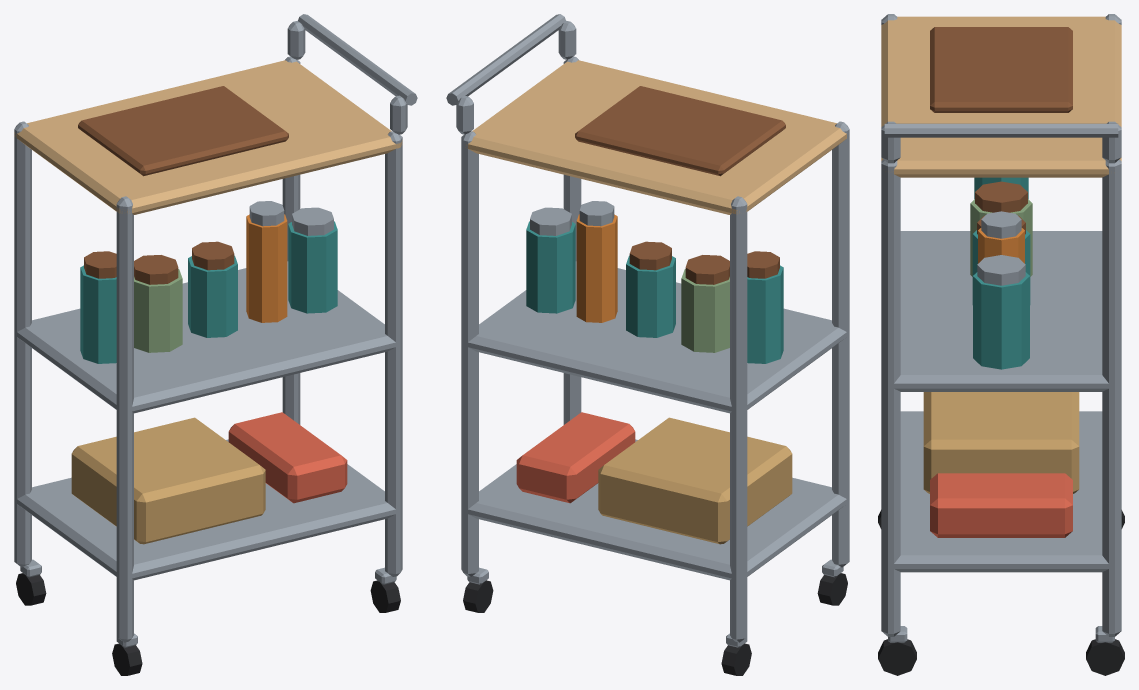
The model's file is rolling_kitchen_cart.glb.
3 renders of one model, left to right at view 1: azimuth 30°, elevation 25°; view 2: azimuth 150°, elevation 25°; view 3: azimuth 270°, elevation 25°, orthographic. The views are drawn at different scales.
Visible parts, largest first — view 1: rolling_kitchen_cart_Body; view 2: rolling_kitchen_cart_Body; view 3: rolling_kitchen_cart_Body.
Part boxes in pixels (x1,y1,x2,y2): rolling_kitchen_cart_Body: [14, 14, 417, 675]; rolling_kitchen_cart_Body: [446, 14, 849, 675]; rolling_kitchen_cart_Body: [878, 14, 1124, 675].
Bounding box in the file's own units: 0.6 × 1 × 0.4.
